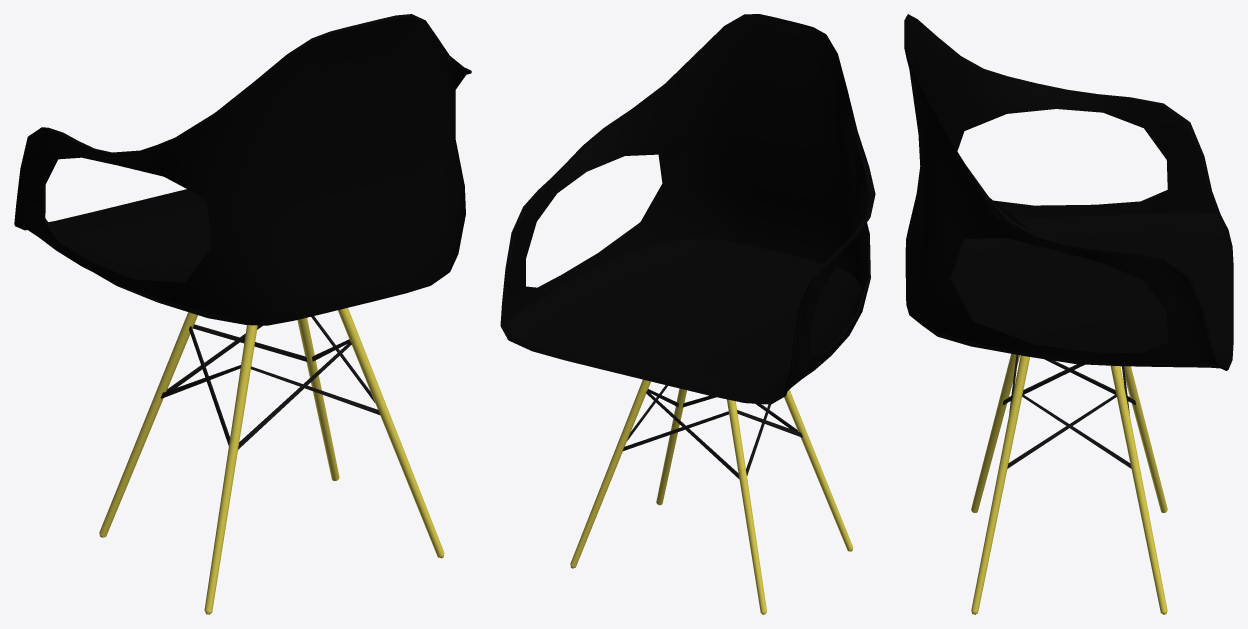
Rendered from Silla.fbx.
3 renders of one model, left to right at view 1: azimuth 30°, elevation 25°; view 2: azimuth 150°, elevation 25°; view 3: azimuth 270°, elevation 25°, orthographic. The views are drawn at different scales.
Visible parts, largest first — view 1: Silla; view 2: Silla; view 3: Silla.
Part boxes in pixels (left/top/right/bottom): Silla: left=14, top=14, right=471, bottom=614; Silla: left=500, top=14, right=875, bottom=614; Silla: left=904, top=14, right=1233, bottom=614.
Bounding box in the file's own units: 670 × 1063 × 597.
